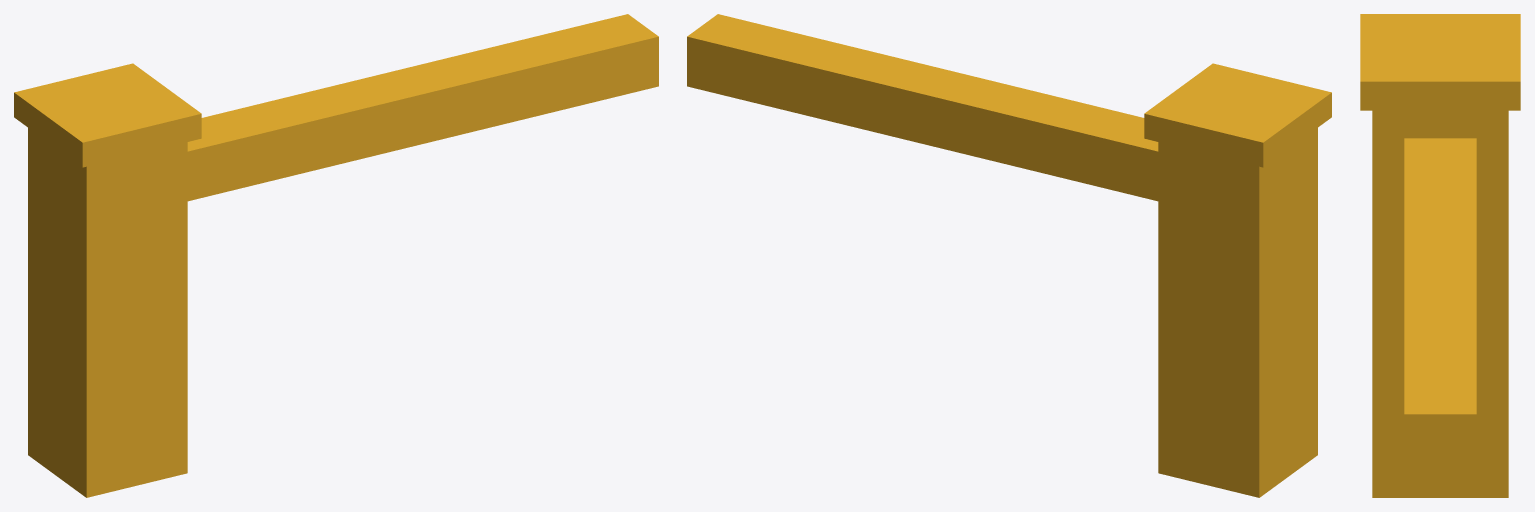
File: barrier.glb
3 views of the same model, side by side, from view 1: azimuth 30°, elevation 25°; view 2: azimuth 150°, elevation 25°; view 3: azimuth 270°, elevation 25° (orthographic). The views are drawn at different scales.
Visible parts, largest first — view 1: BarrierPost, BarrierArm; view 2: BarrierPost, BarrierArm; view 3: BarrierPost, BarrierArm.
Boxes of the visible parts, x1,y1,x2,y2 form: BarrierPost: (14,63,201,497); BarrierArm: (187,14,658,201); BarrierPost: (1144,63,1331,497); BarrierArm: (687,14,1158,201); BarrierPost: (1360,14,1520,497); BarrierArm: (1404,138,1476,472).
Bounding box in the file's own units: 2 × 1.16 × 0.4.
